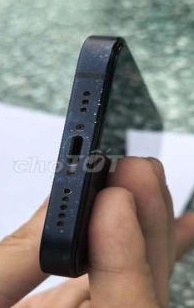scratch: (69, 47, 122, 135)
